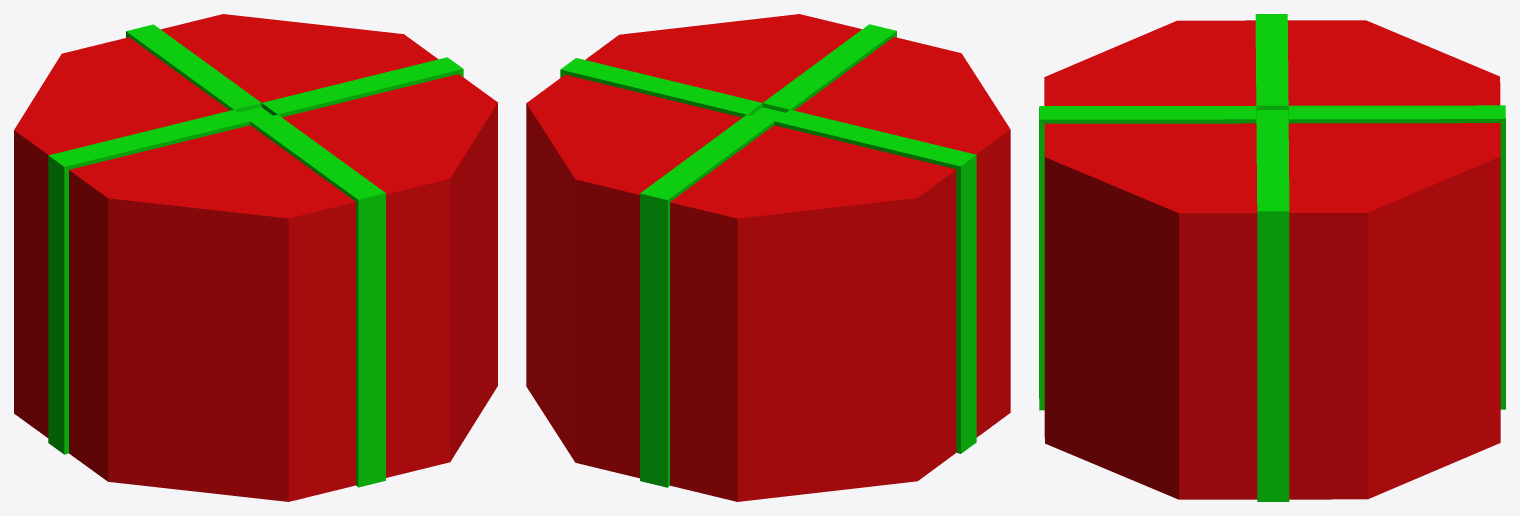
Rendered from Presents_1.fbx.
The picture shows the model from 3 angles, left to right: view 1: azimuth 30°, elevation 25°; view 2: azimuth 150°, elevation 25°; view 3: azimuth 270°, elevation 25°; orthographic projection.
Parts seen in each view (by area): view 1: Present_2; view 2: Present_2; view 3: Present_2.
Part boxes in pixels (x1=…): Present_2: x1=14, y1=14, x2=497, y2=501; Present_2: x1=526, y1=14, x2=1010, y2=501; Present_2: x1=1039, y1=14, x2=1505, y2=501.
Size of the model in its own units: 53.29 by 36.63 by 53.29.
